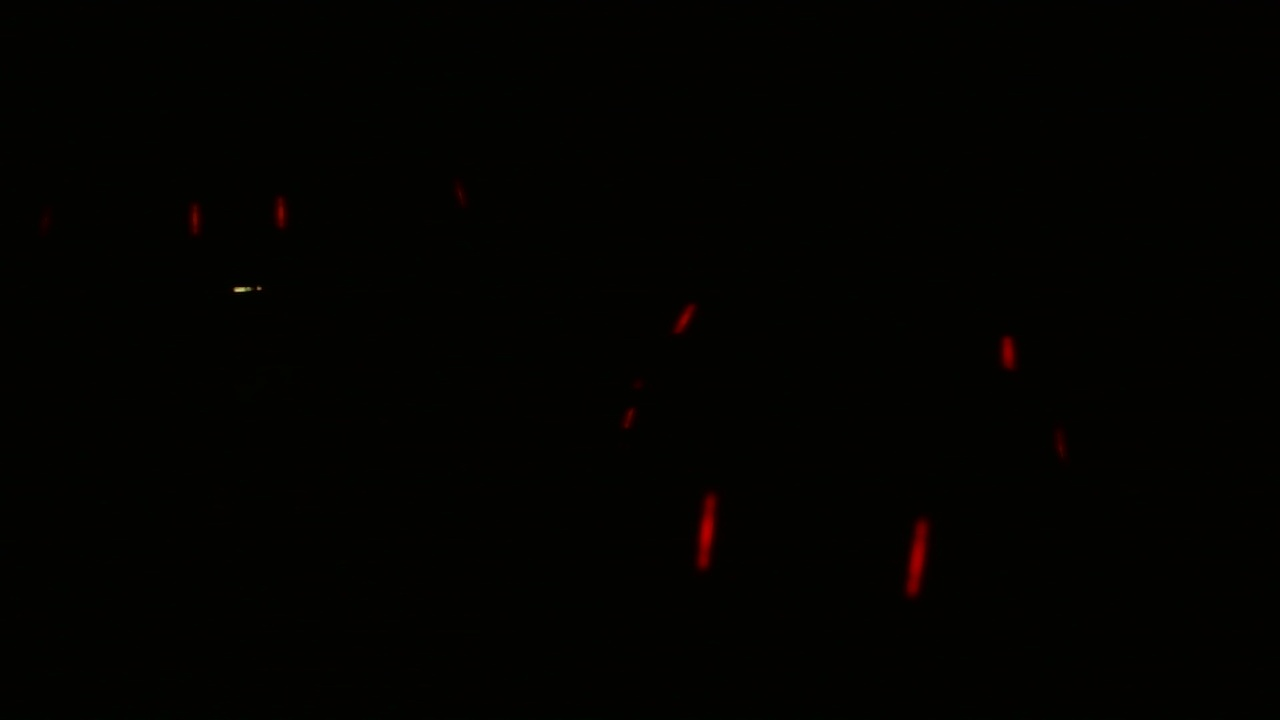pair1: (178, 180, 300, 249)
pair2: (685, 492, 934, 604)
